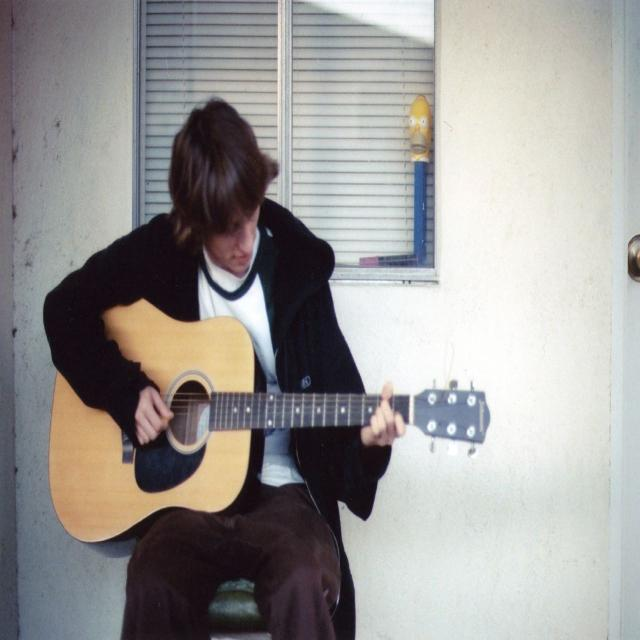guitar: (47, 295, 492, 553)
